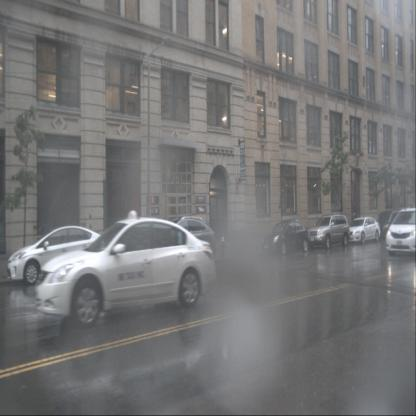vehicle-car: (34, 216, 215, 328), (6, 225, 115, 283), (148, 215, 216, 260), (262, 220, 311, 257), (386, 207, 416, 258), (308, 214, 350, 250), (346, 216, 380, 244), (376, 210, 405, 237)
